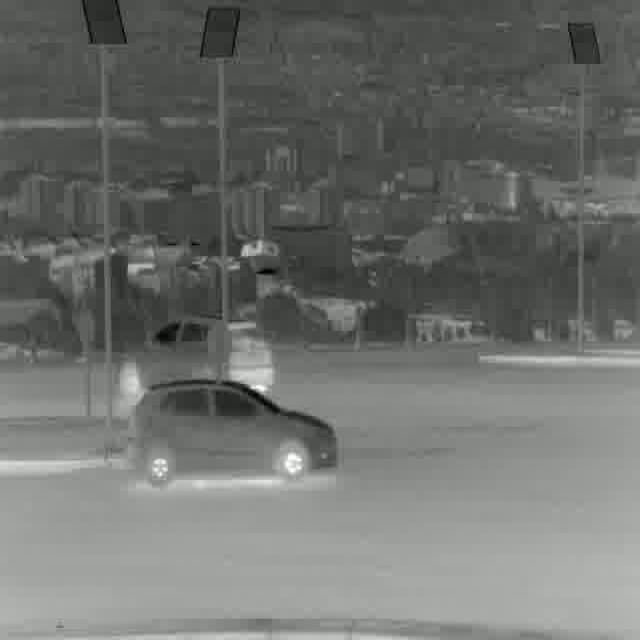Car: (130, 382, 336, 486), (122, 320, 274, 397)
